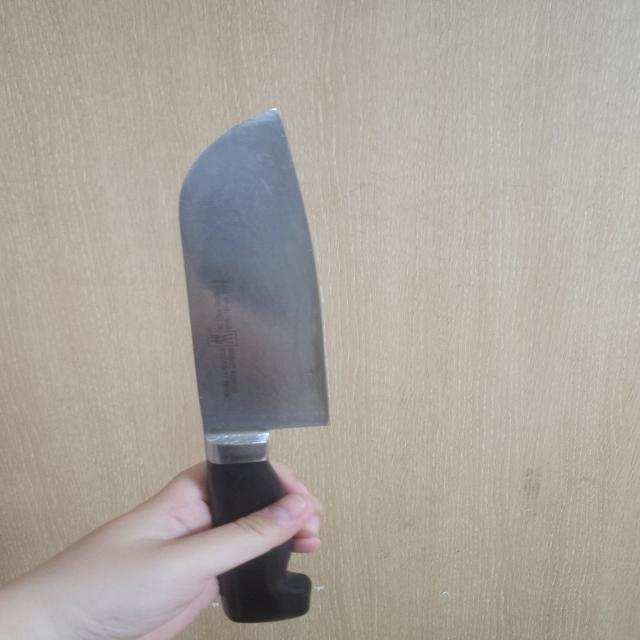knife: (179, 107, 331, 626)
